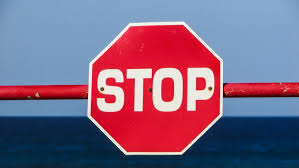stop: (86, 22, 223, 154)
